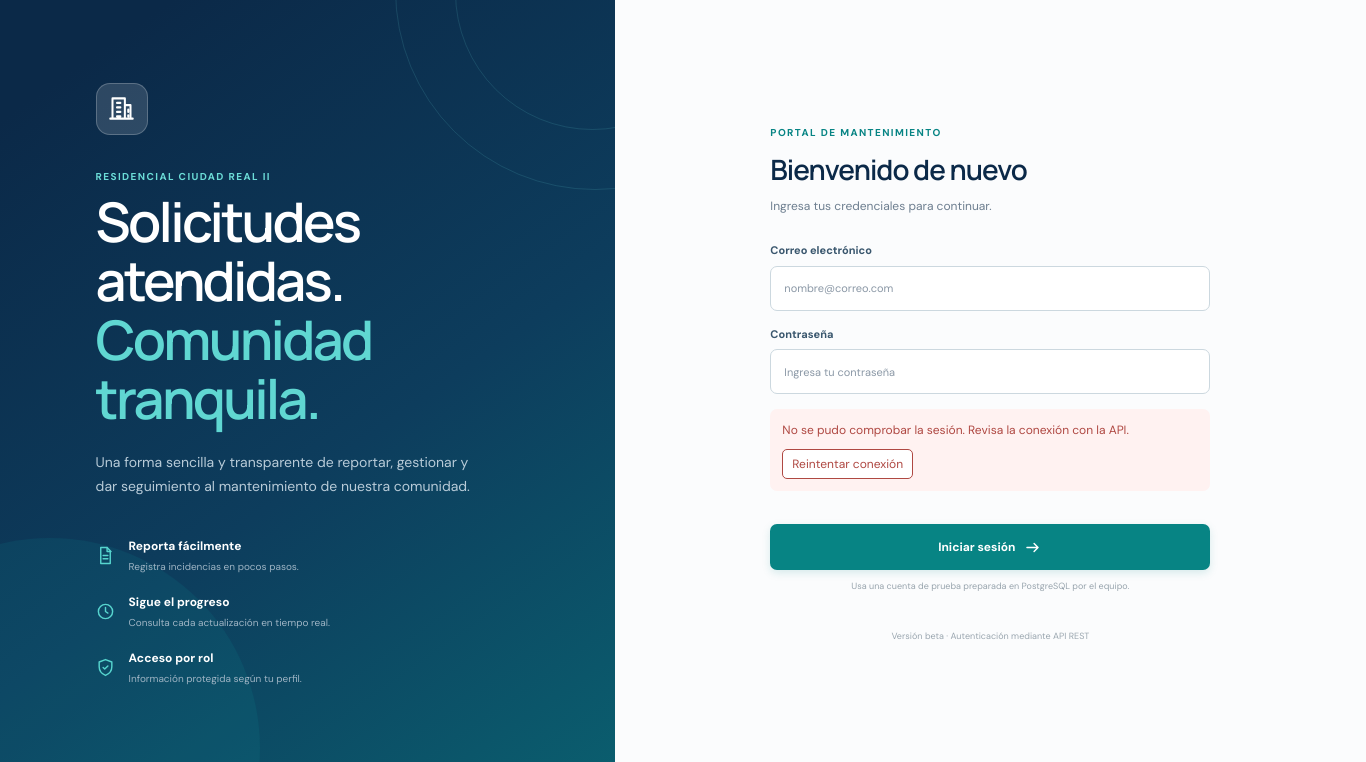
Test: permite reintentar la conexión inicial sin usar cuentas de respaldo
Check: the message shows "No se pudo comprobar la sesión", box top-left (782, 422), bottom-right (1129, 438)
Click the button "Reintentar conexión": {"x": 848, "y": 464} top-left (782, 449), bottom-right (913, 479)
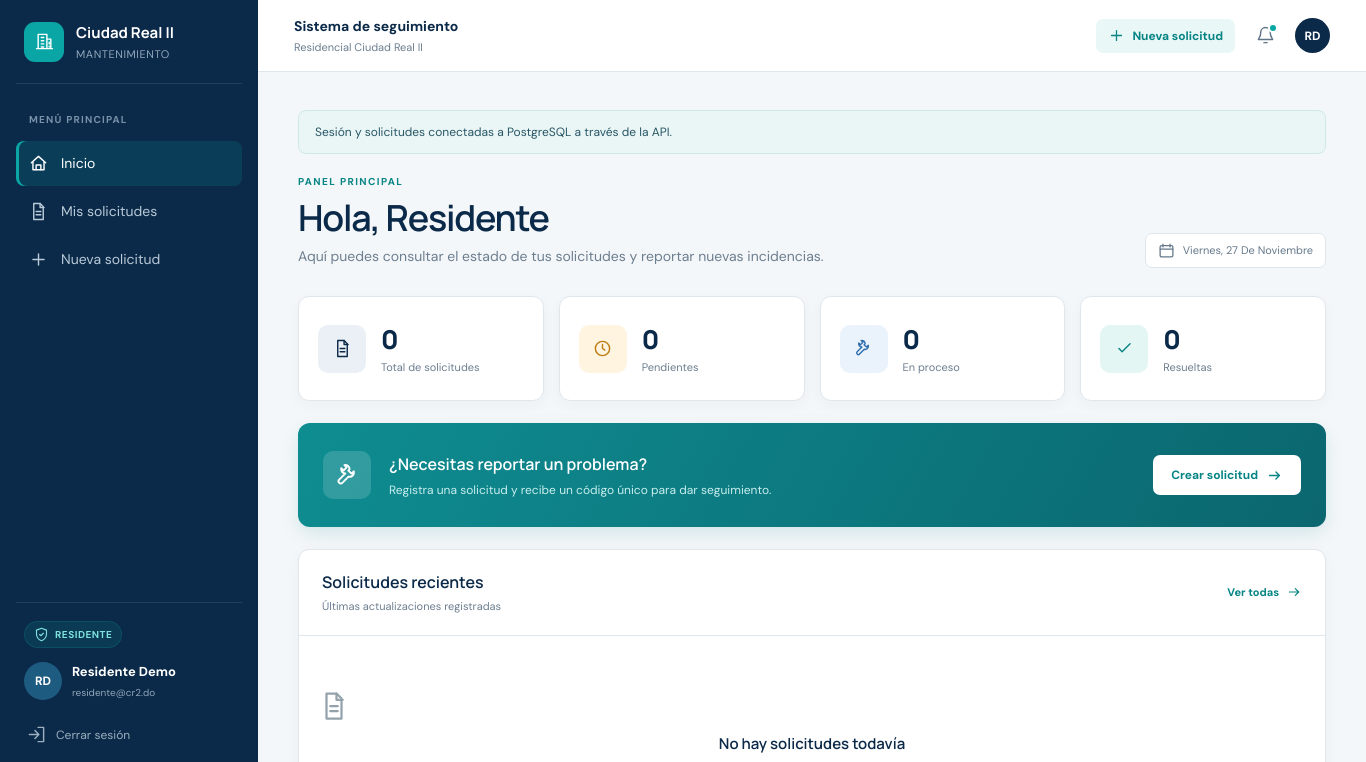
Check: the heading "Hola, Residente" is shown, box top-left (298, 193), bottom-right (549, 242)
